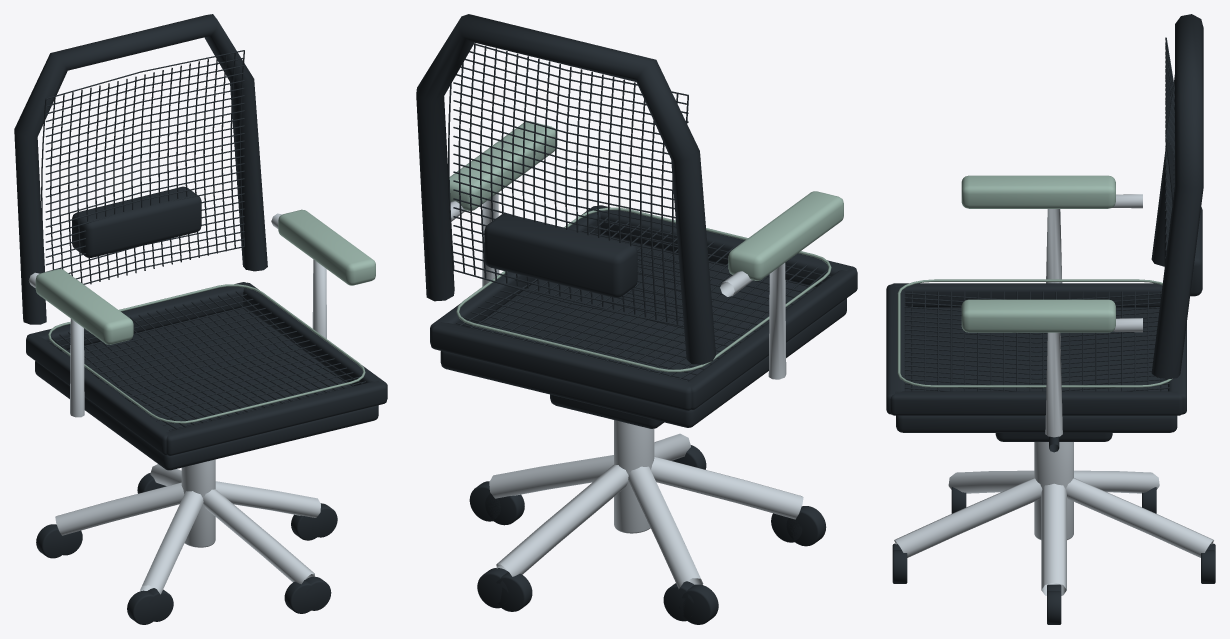
File: ergonomic-office-chair.glb
3 views of the same model, side by side, from view 1: azimuth 30°, elevation 25°; view 2: azimuth 150°, elevation 25°; view 3: azimuth 270°, elevation 25° (orthographic). The views are drawn at different scales.
Visible parts, largest first — view 1: catalog_surface_UVMap, catalog_surface_RealismUV; view 2: catalog_surface_UVMap, catalog_surface_RealismUV; view 3: catalog_surface_UVMap, catalog_surface_RealismUV.
Boxes of the visible parts, x1=… form: catalog_surface_UVMap: x1=14, y1=14, x2=387, y2=624; catalog_surface_RealismUV: x1=28, y1=209, x2=375, y2=594; catalog_surface_UVMap: x1=416, y1=14, x2=857, y2=624; catalog_surface_RealismUV: x1=449, y1=121, x2=843, y2=588; catalog_surface_UVMap: x1=886, y1=14, x2=1215, y2=624; catalog_surface_RealismUV: x1=894, y1=175, x2=1213, y2=595.
Size of the model in its own units: 0.66 by 1.12 by 0.66.
